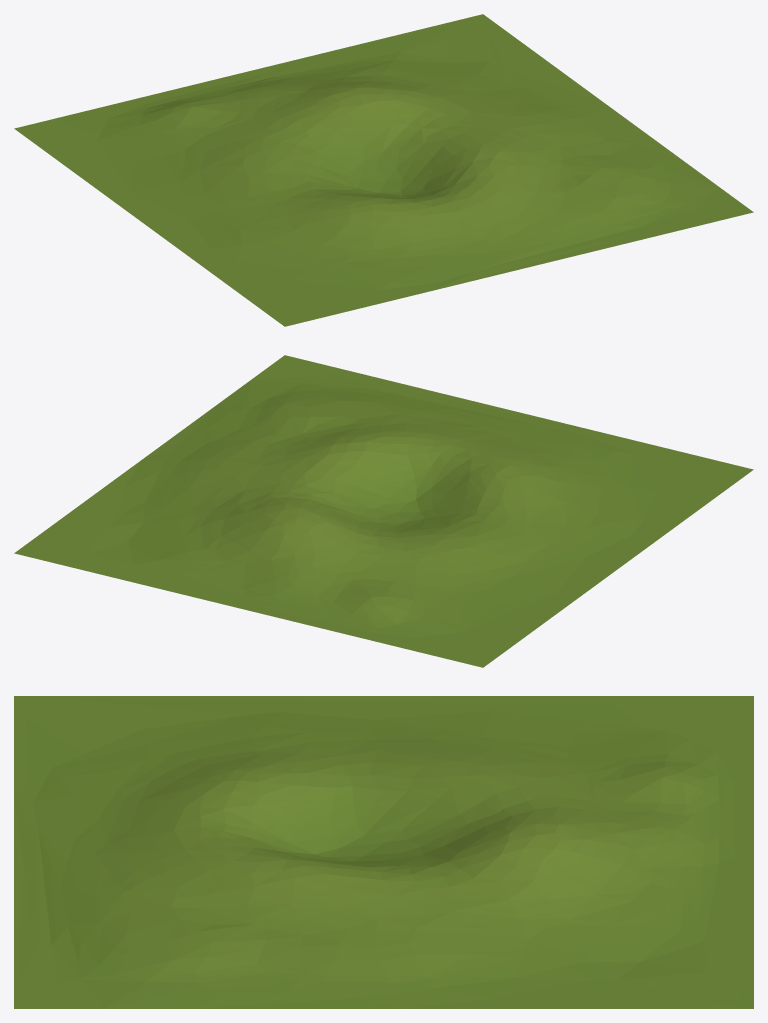
Rendered from Terrain_07.glb.
3 views of the same model, one above another, from view 1: azimuth 30°, elevation 25°; view 2: azimuth 150°, elevation 25°; view 3: azimuth 270°, elevation 25° (orthographic). The views are drawn at different scales.
Visible parts, largest first — view 1: Terrain_07; view 2: Terrain_07; view 3: Terrain_07.
Part boxes in pixels (x1,y1,x2,y2): Terrain_07: (14, 14, 753, 326); Terrain_07: (14, 355, 753, 667); Terrain_07: (14, 696, 753, 1008).
Bounding box in the file's own units: 128 × 8.89 × 128.
1 material, 1 textured.
